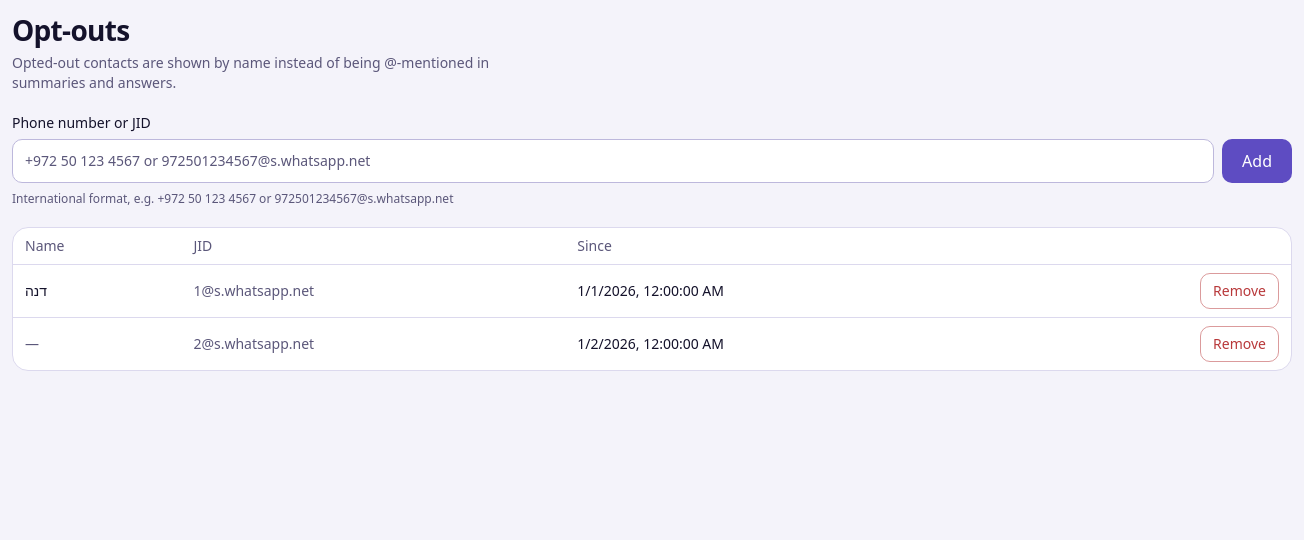
it: Opt-outs across a viewport resize › keeps a typed value across the swap
Type "972501" into the field labelled "Phone number or JID" at (613, 161), box 12,139 -> 1214,183
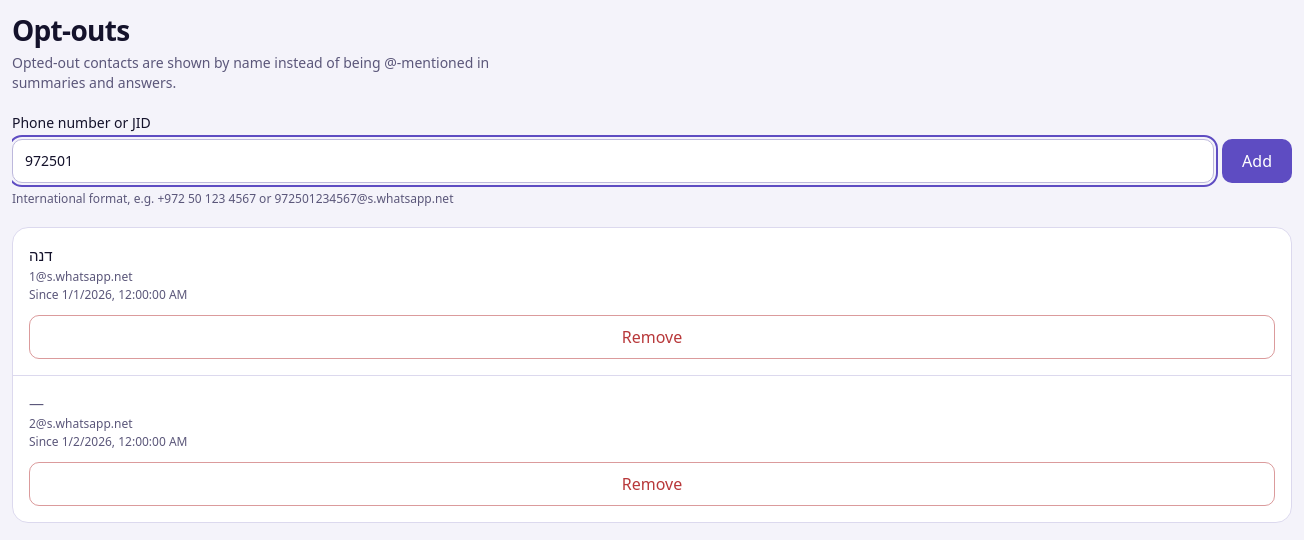
Result: the list named "Opt-outs" is shown at 12,227 -> 1292,523
